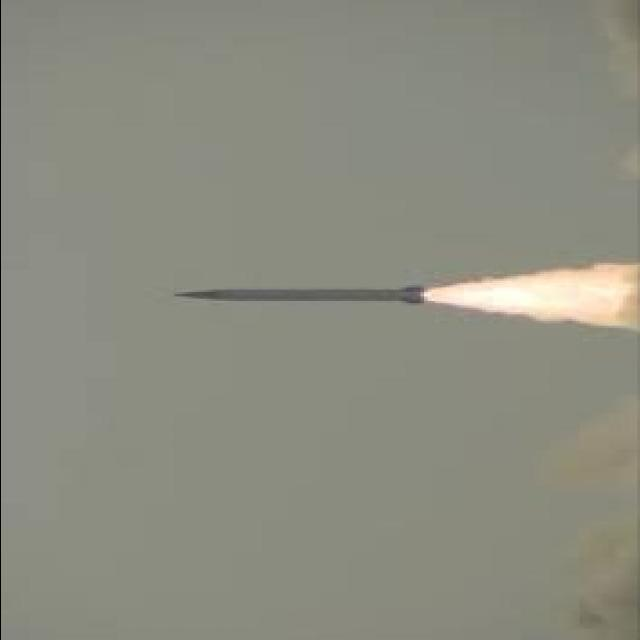missile: (163, 277, 437, 309)
